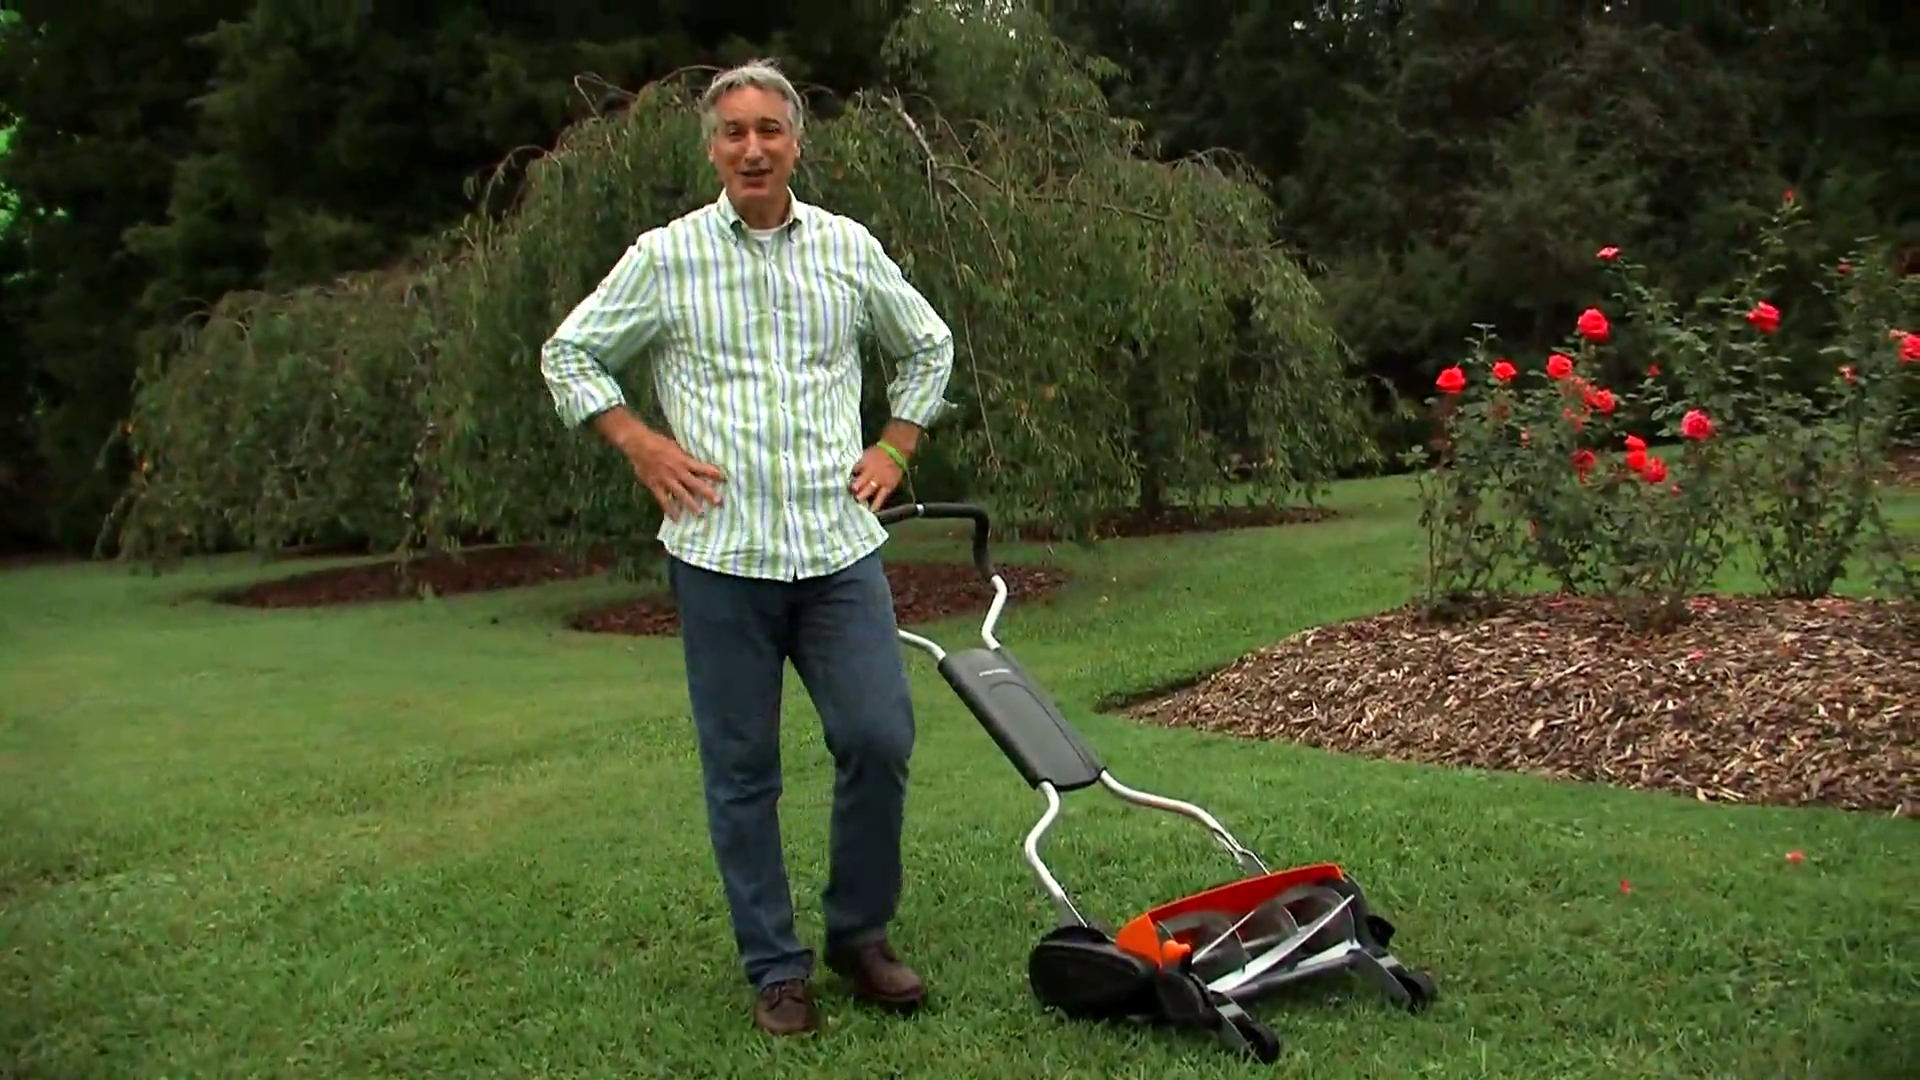left-lower-arm: (546, 373, 651, 423)
left-lower-leg: (661, 822, 851, 872)
left-upper-arm: (547, 287, 670, 338)
left-upper-leg: (645, 630, 843, 680)
right-lower-arm: (837, 280, 947, 328)
right-lower-leg: (756, 612, 939, 662)
right-upper-arm: (860, 371, 964, 421)
right-upper-leg: (764, 798, 963, 848)
